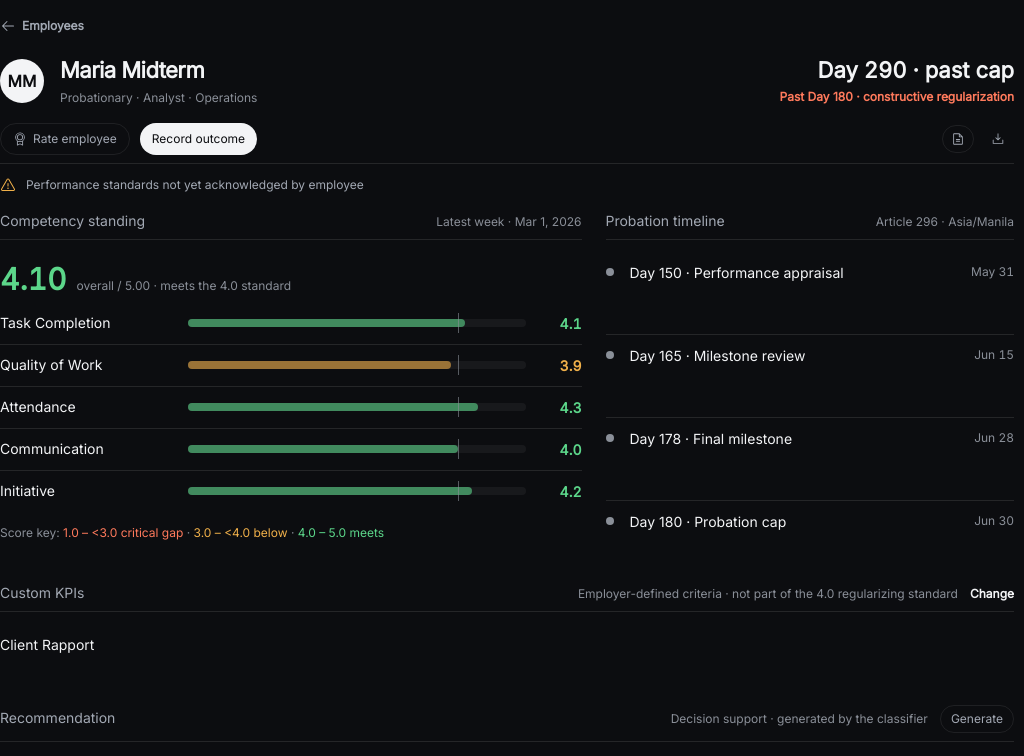
Test: EmployeeDetail › shows the assigned custom KPIs and lets the employer change them
Expected: the heading "Custom KPIs" is shown, x1=0 y1=582 x2=84 y2=603
Expected: the list item "Client Rapport" is shown, x1=0 y1=636 x2=94 y2=653
The employer can reopen it at any time (not just at onboarding).
Click the button with aria-label "Change the custom KPIs assigned". click: (992, 594)
box: x1=970 y1=585 x2=1014 y2=603
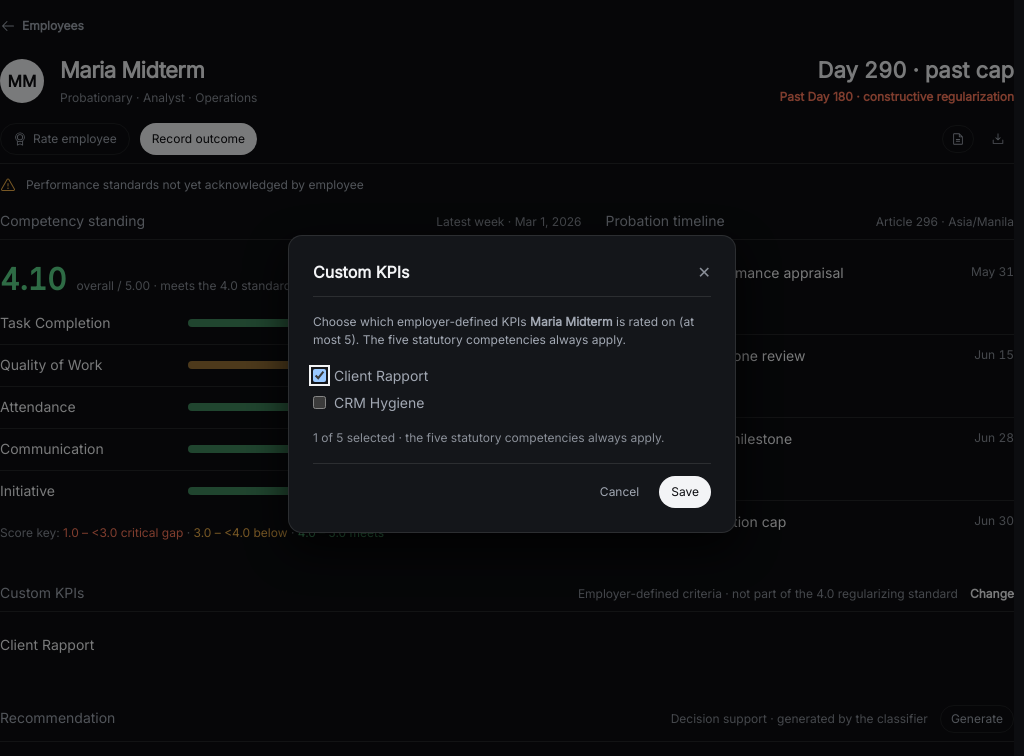
Now the checkbox labelled "CRM Hygiene" is not checked, box x1=313 y1=396 x2=326 y2=409
Now the checkbox labelled "Client Rapport" is checked, box x1=313 y1=369 x2=326 y2=382
